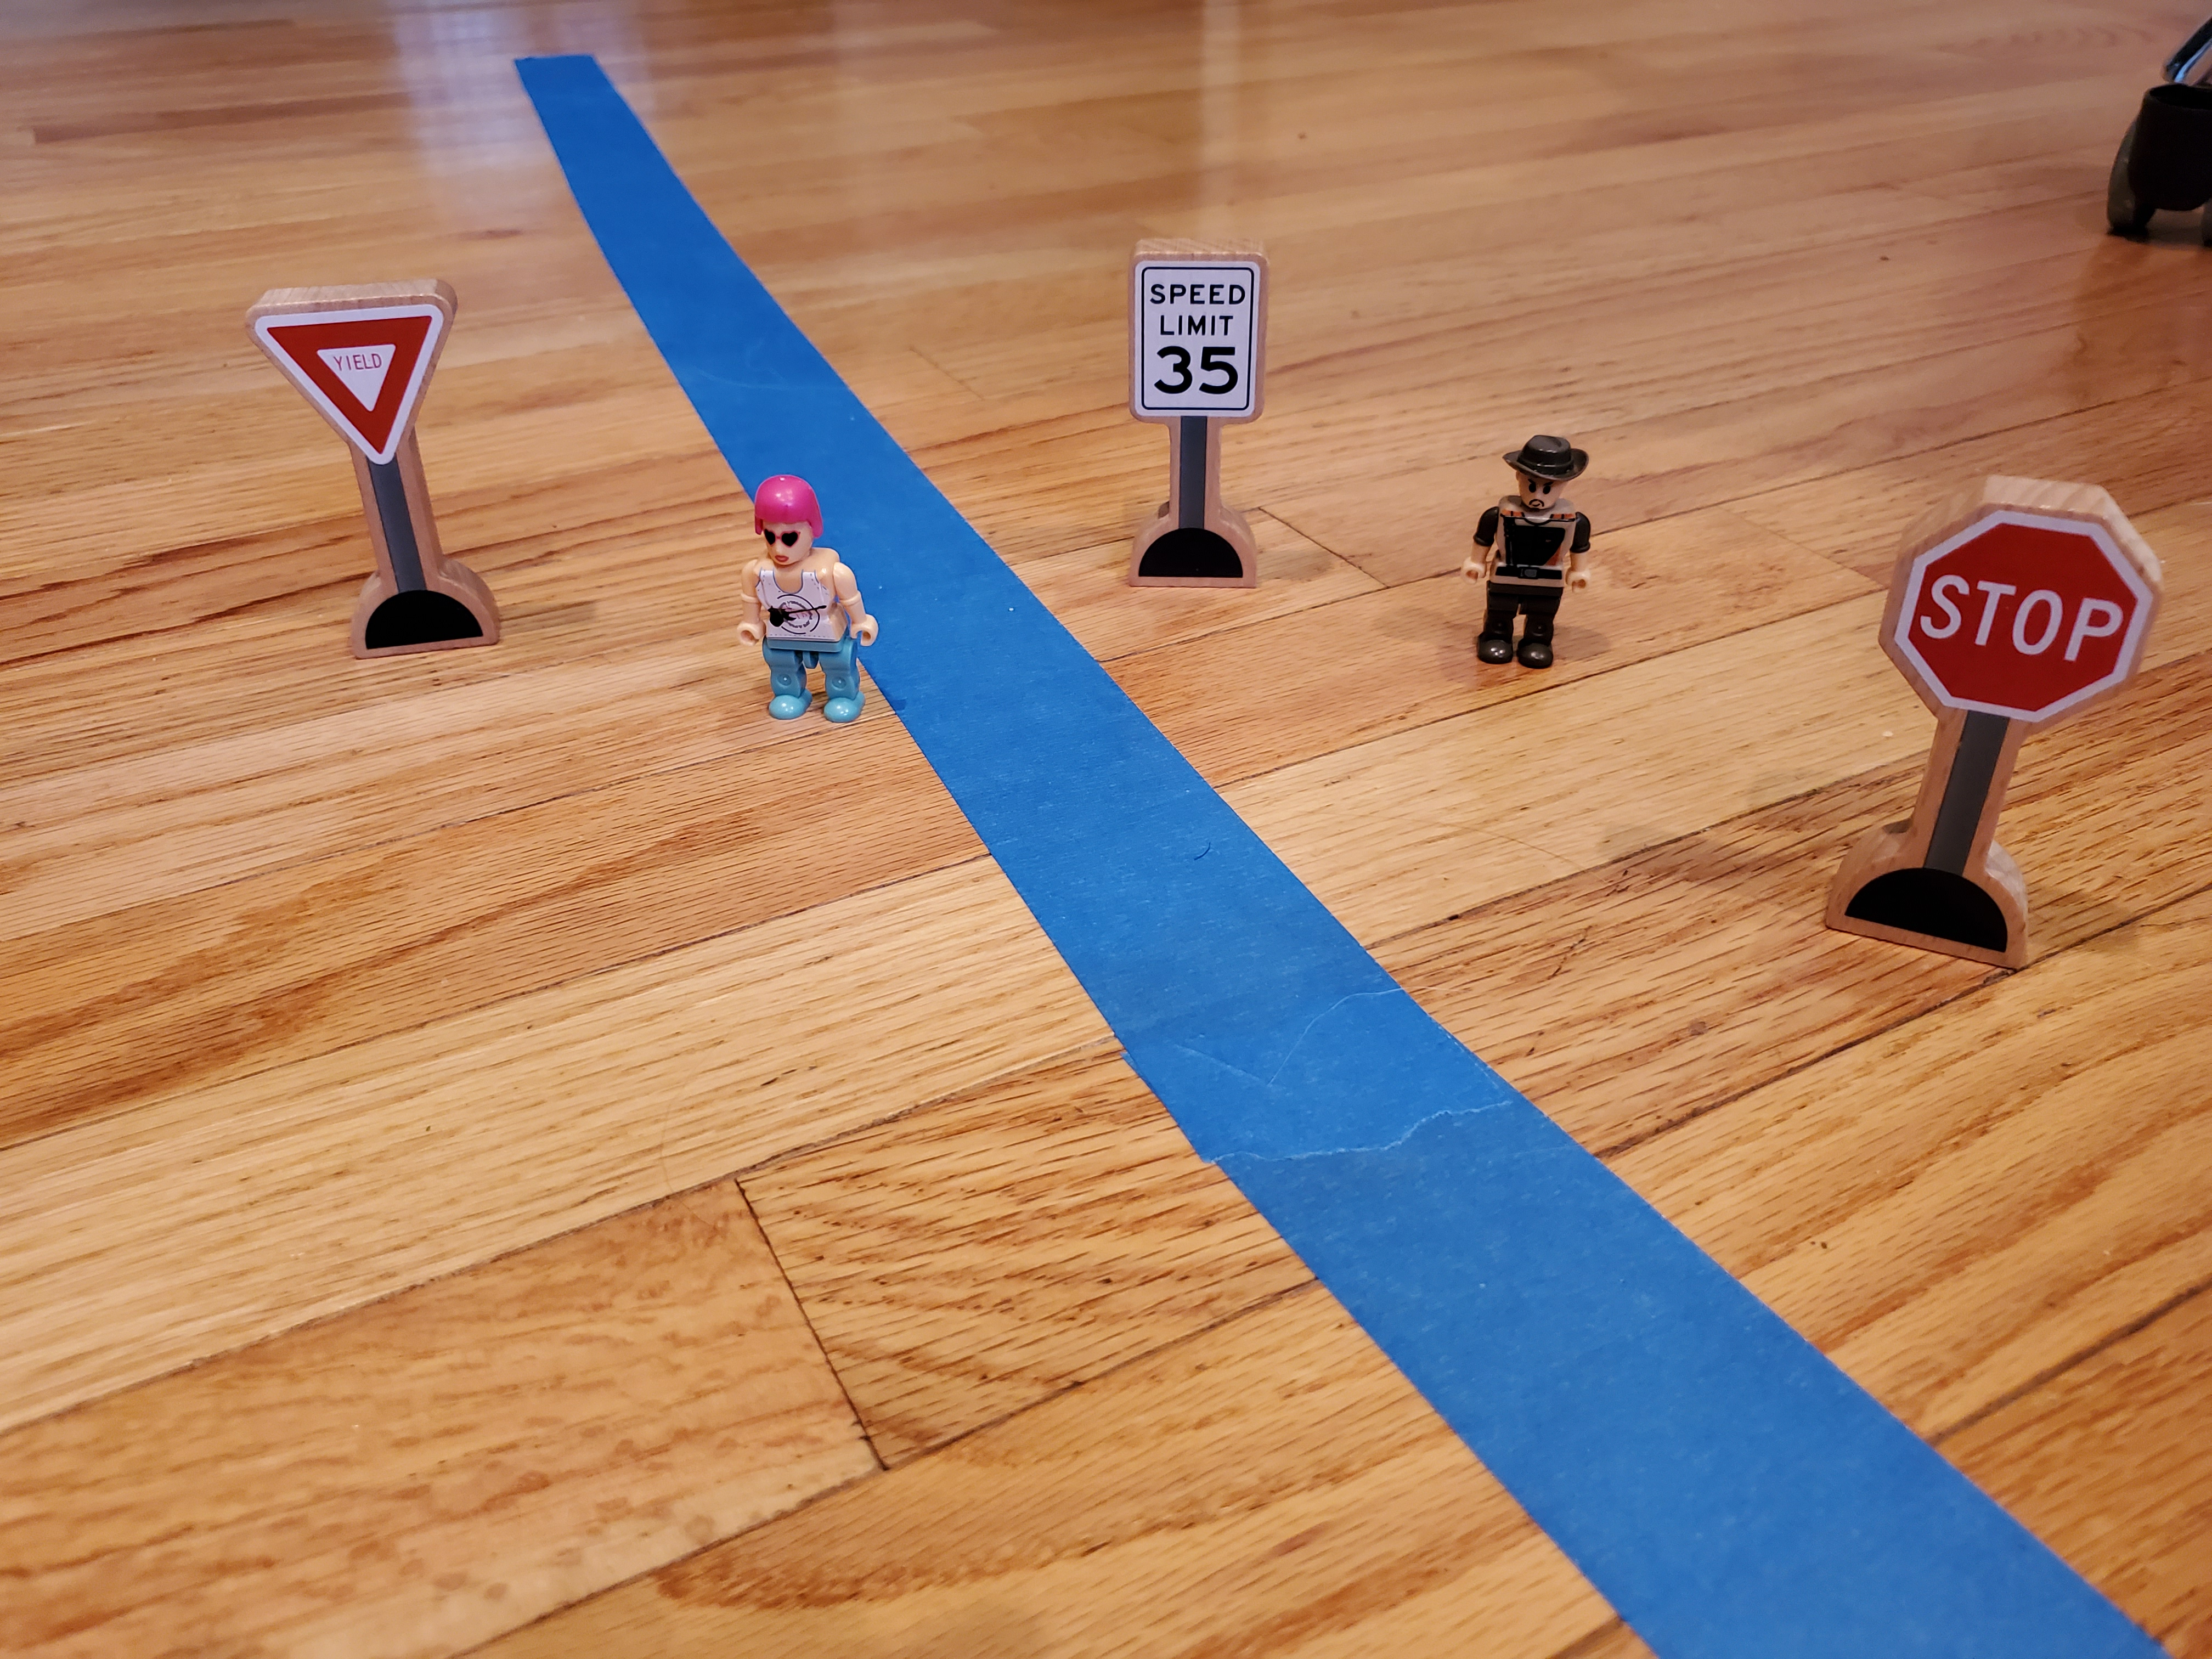Speed Limit 35: (1129, 235, 1271, 431)
Stop Sign: (1877, 459, 2162, 754)
Yield Sign: (242, 282, 465, 465)
person: (730, 470, 881, 727), (1457, 425, 1595, 678)
